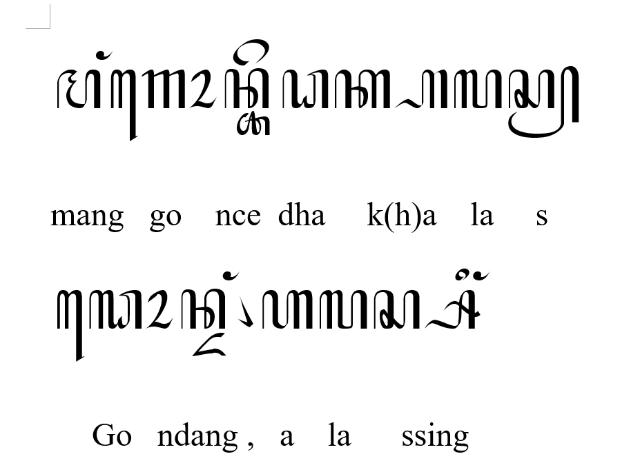-s: (508, 66, 580, 139)
G: (88, 290, 142, 330)
_c: (236, 112, 270, 137)
_d: (192, 333, 226, 357)
_h: (394, 70, 448, 108)
_s: (424, 290, 480, 328)
dh: (282, 69, 328, 109)
e: (232, 38, 270, 66)
e1: (110, 69, 138, 141), (56, 290, 84, 362)
g: (141, 70, 185, 108)
h: (261, 290, 313, 330)
i: (455, 268, 469, 282)
k: (334, 69, 390, 109)
kom: (237, 296, 253, 328)
l: (453, 69, 502, 109), (319, 290, 367, 330)
m: (57, 69, 101, 109)
n: (224, 68, 270, 108), (180, 289, 226, 329)
ng: (473, 271, 491, 281), (96, 50, 112, 60), (222, 272, 240, 280)
o: (144, 290, 174, 330), (188, 70, 218, 108)
s: (374, 290, 420, 330)
